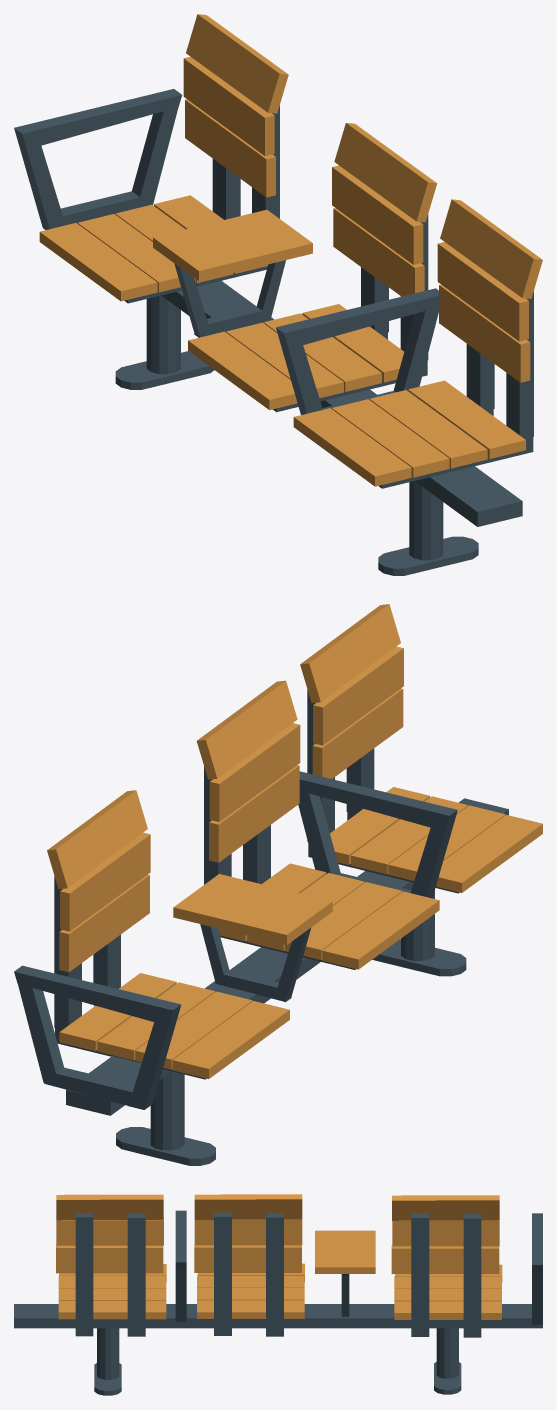
Rendered from banc.glb.
3 views of the same model, one above another, from view 1: azimuth 30°, elevation 25°; view 2: azimuth 150°, elevation 25°; view 3: azimuth 270°, elevation 25° (orthographic). The views are drawn at different scales.
Parts seen in each view (by area): view 1: group1354749884, group845519350, group1495418015, group1263609664, group353536125, group850914352, group1096281243, group872091075, group76178482, group706830576; view 2: group1495418015, group1354749884, group845519350, group1263609664, group353536125, group850914352, group1096281243, group76178482, group706830576, group872091075; view 3: group1354749884, group1495418015, group845519350, group1096281243, group850914352, group872091075, group76178482, group353536125, group1263609664, group706830576.
Boxes of the visible parts, x1=… form: group1354749884: x1=293, y1=199, x2=542, y2=488; group845519350: x1=188, y1=123, x2=437, y2=412; group1495418015: x1=39, y1=14, x2=288, y2=303; group1263609664: x1=14, y1=89, x2=181, y2=229; group353536125: x1=276, y1=288, x2=438, y2=414; group850914352: x1=153, y1=209, x2=312, y2=281; group1096281243: x1=161, y1=281, x2=522, y2=526; group872091075: x1=378, y1=481, x2=478, y2=575; group76178482: x1=115, y1=295, x2=214, y2=389; group706830576: x1=174, y1=260, x2=285, y2=337; group1495418015: x1=47, y1=790, x2=289, y2=1079; group1354749884: x1=300, y1=604, x2=542, y2=893; group845519350: x1=196, y1=680, x2=439, y2=969; group1263609664: x1=14, y1=965, x2=181, y2=1109; group353536125: x1=298, y1=771, x2=457, y2=898; group850914352: x1=173, y1=874, x2=332, y2=944; group1096281243: x1=66, y1=798, x2=508, y2=1115; group76178482: x1=116, y1=1071, x2=215, y2=1165; group706830576: x1=200, y1=924, x2=311, y2=1001; group872091075: x1=372, y1=890, x2=466, y2=976; group1354749884: x1=56, y1=1194, x2=166, y2=1336; group1495418015: x1=391, y1=1195, x2=502, y2=1337; group845519350: x1=194, y1=1194, x2=304, y2=1336; group1096281243: x1=14, y1=1304, x2=542, y2=1328; group850914352: x1=315, y1=1230, x2=375, y2=1273; group872091075: x1=94, y1=1328, x2=121, y2=1395; group76178482: x1=434, y1=1328, x2=461, y2=1394; group353536125: x1=175, y1=1210, x2=186, y2=1321; group1263609664: x1=532, y1=1213, x2=542, y2=1324; group706830576: x1=341, y1=1274, x2=349, y2=1316.
Bounding box in the file's own units: 0.97 × 1.67 × 3.86.
